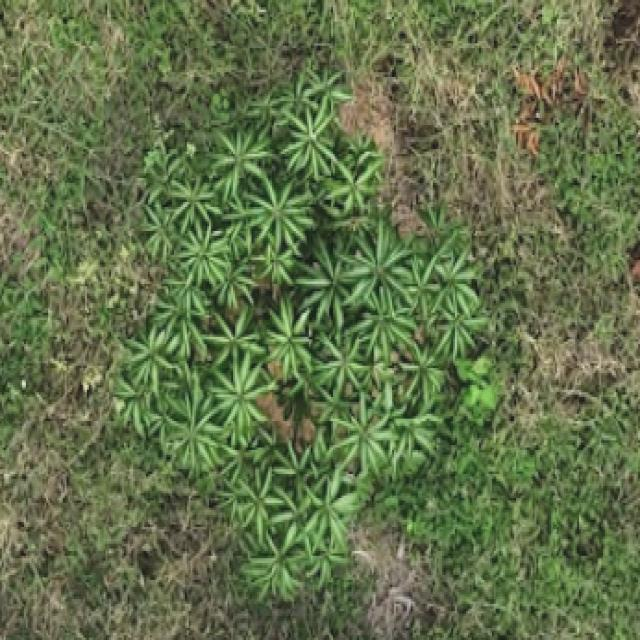mangoTree: (96, 46, 486, 605)
